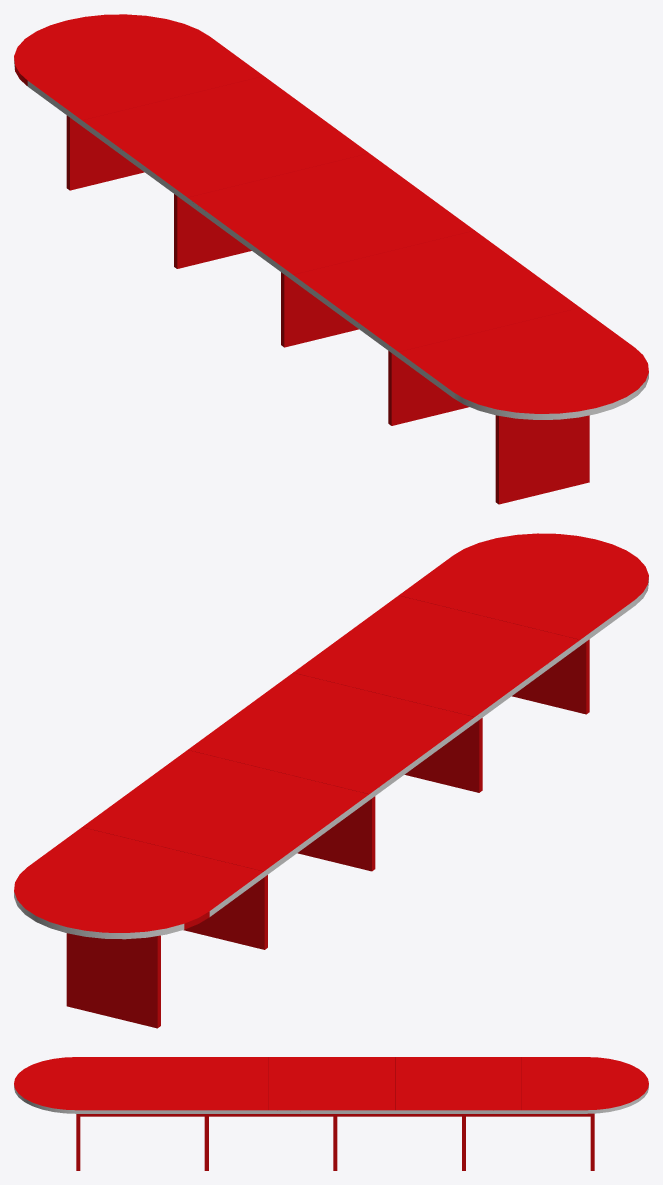
The model's file is main commons table.fbx.
The picture shows the model from 3 angles, top to bottom: view 1: azimuth 30°, elevation 25°; view 2: azimuth 150°, elevation 25°; view 3: azimuth 270°, elevation 25°; orthographic projection. The views are drawn at different scales.
Parts seen in each view (by area): view 1: Body1; view 2: Body1; view 3: Body1.
Boxes of the visible parts, left/top/right/bottom form: Body1: left=14, top=14, right=648, bottom=504; Body1: left=14, top=533, right=648, bottom=1028; Body1: left=14, top=1057, right=648, bottom=1170.
Size of the model in its own units: 119 by 77.47 by 602.
